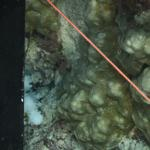alive: (25, 6, 147, 146)
